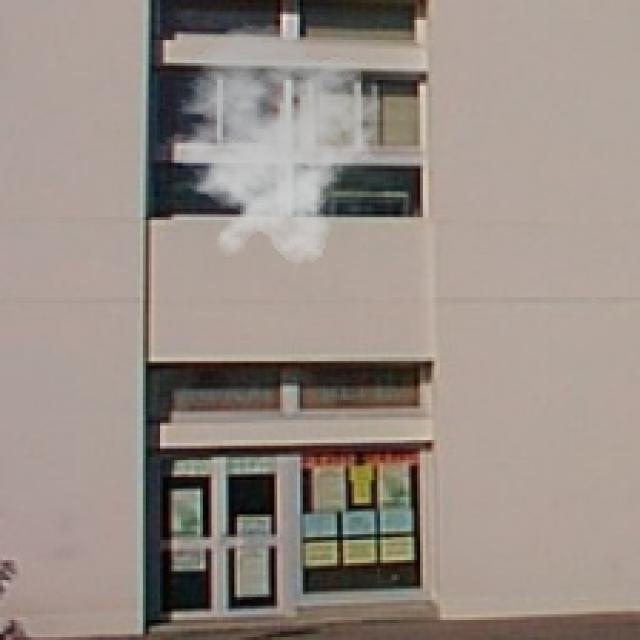Smoke: (154, 23, 389, 266)
